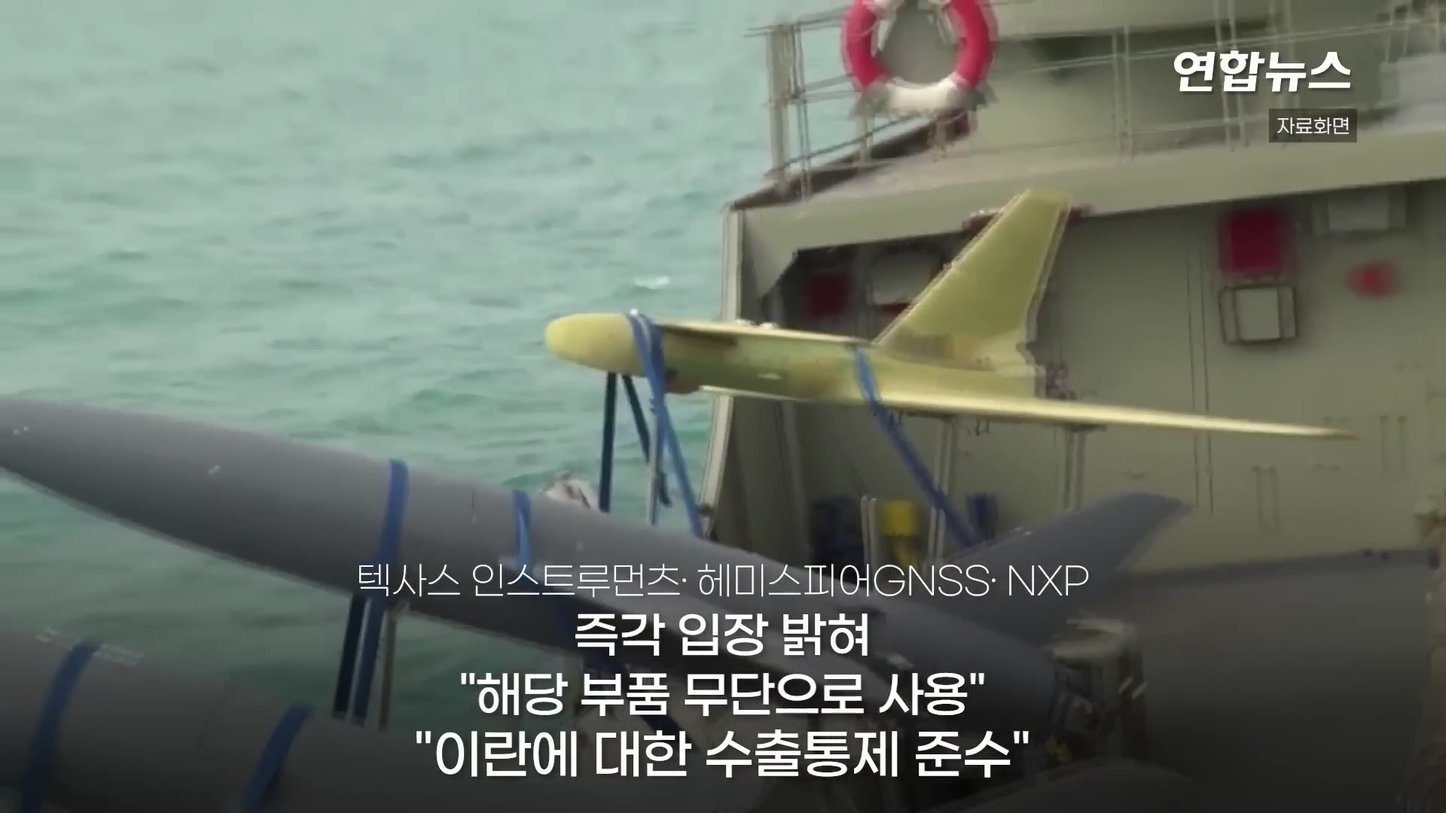shahed: (0, 395, 1193, 749)
